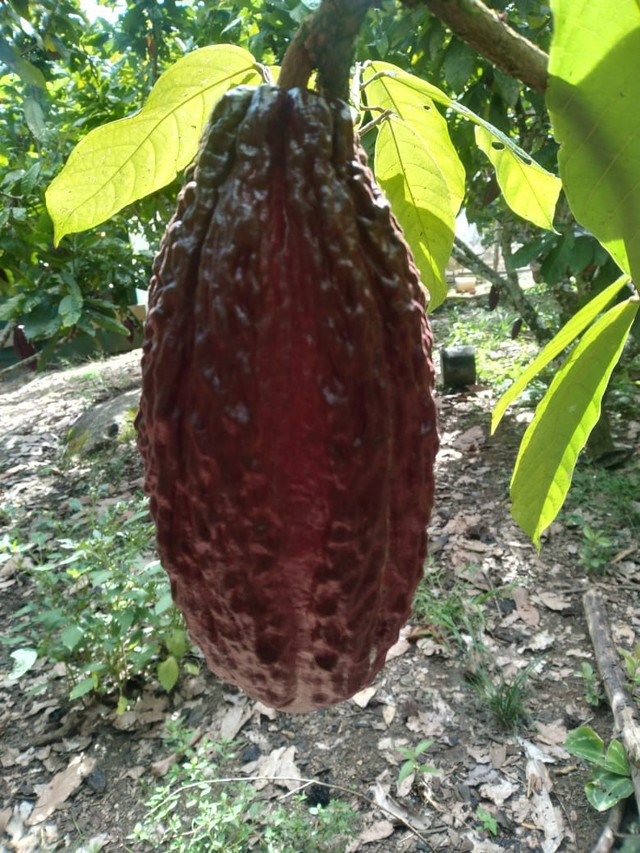Health: (121, 53, 471, 732)
